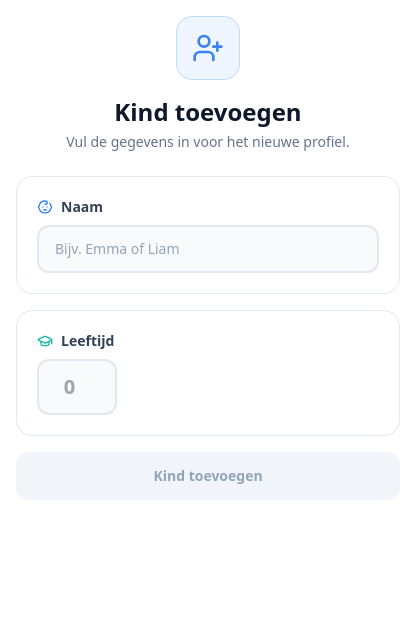
Test: ParentAddChild › inserts the child with the grade the parent picked, shows a success toast, and navigates back
The image size is (417, 642).
Later steps or results of the test are not shown.
expect the heading "Kind toevoegen" is shown: met, box [114,95,302,128]
In the field with placeholder "Bijv. Emma of Liam": (208, 249) [37,225,379,273], type "Test Child"
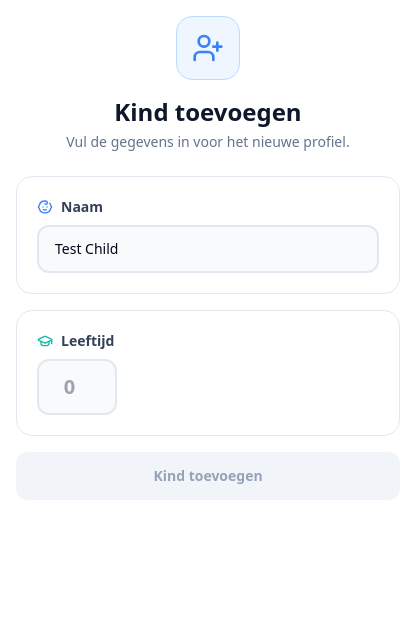
In the number field with placeholder "0": (77, 387) [37,359,117,415], type "7"
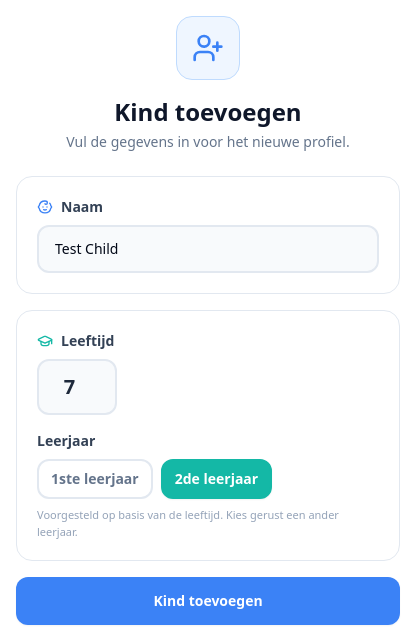
Click the radio button labelled "1ste leerjaar": (95, 479) [37,459,153,499]
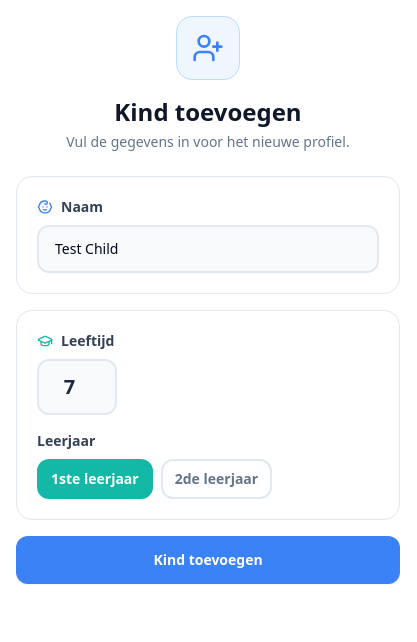
expect the radio button labelled "1ste leerjaar" is checked: met, box [37,459,153,499]
